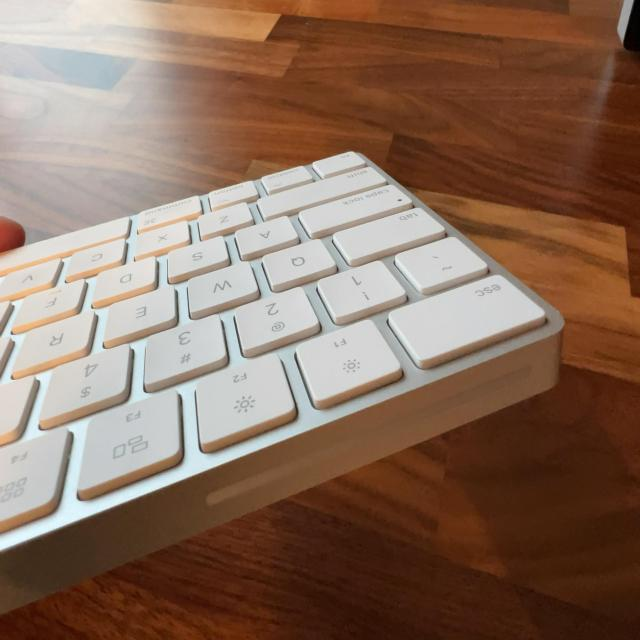keyboard: (0, 150, 560, 622)
